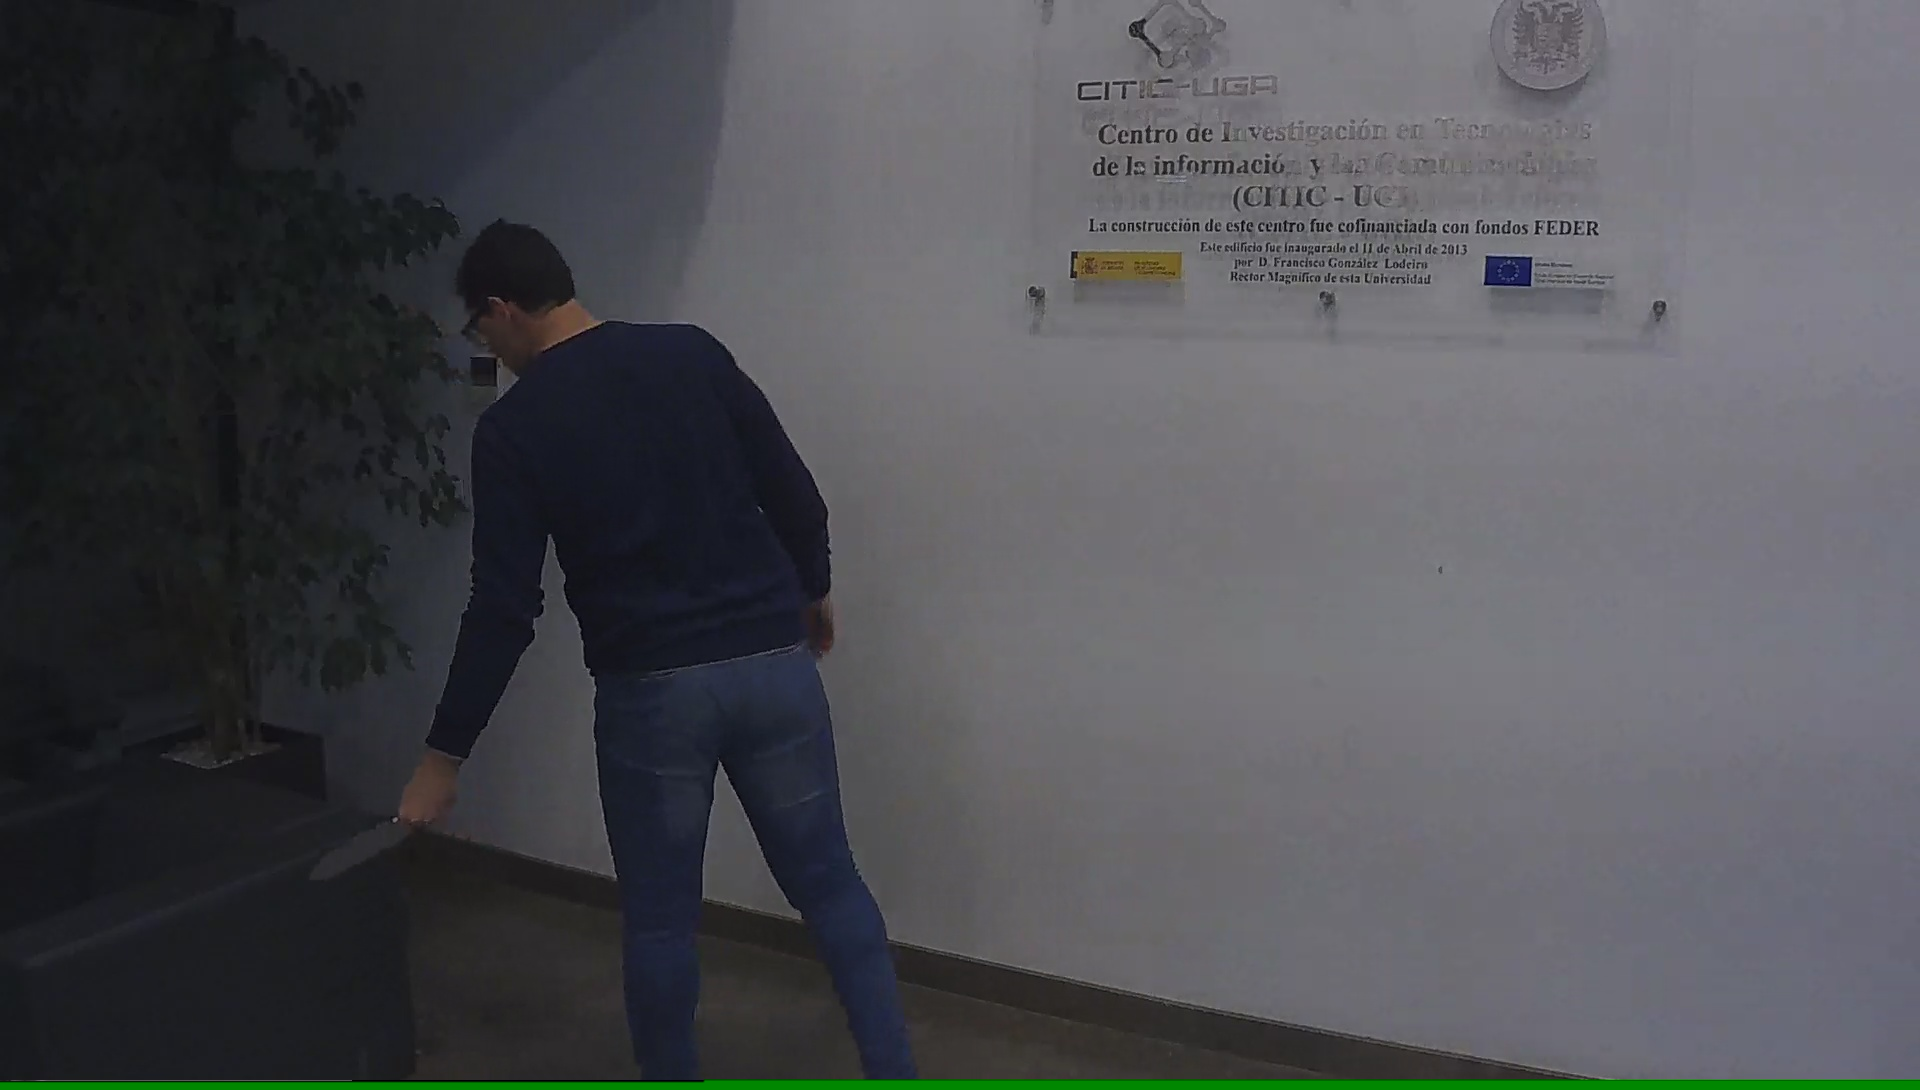knife: (299, 787, 456, 888)
